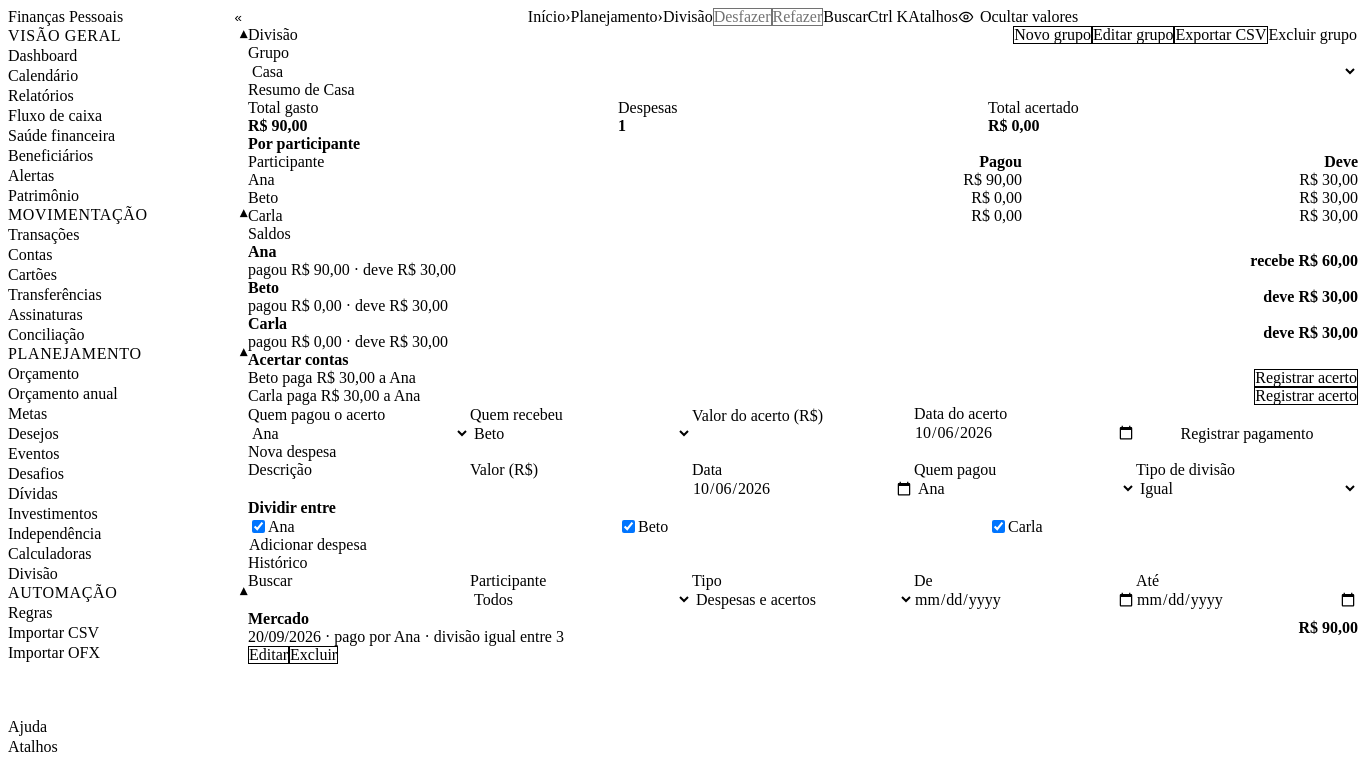
critério 10: acertos efetivados › o botão de uma sugestão registra o acerto, atualiza saldos e some da lista
The width and height of the screenshot is (1366, 759).
Click the button with aria-label "Registrar acerto: Beto paga R$ 30,00 a Ana" at (1306, 378), box [1254,369,1358,387]
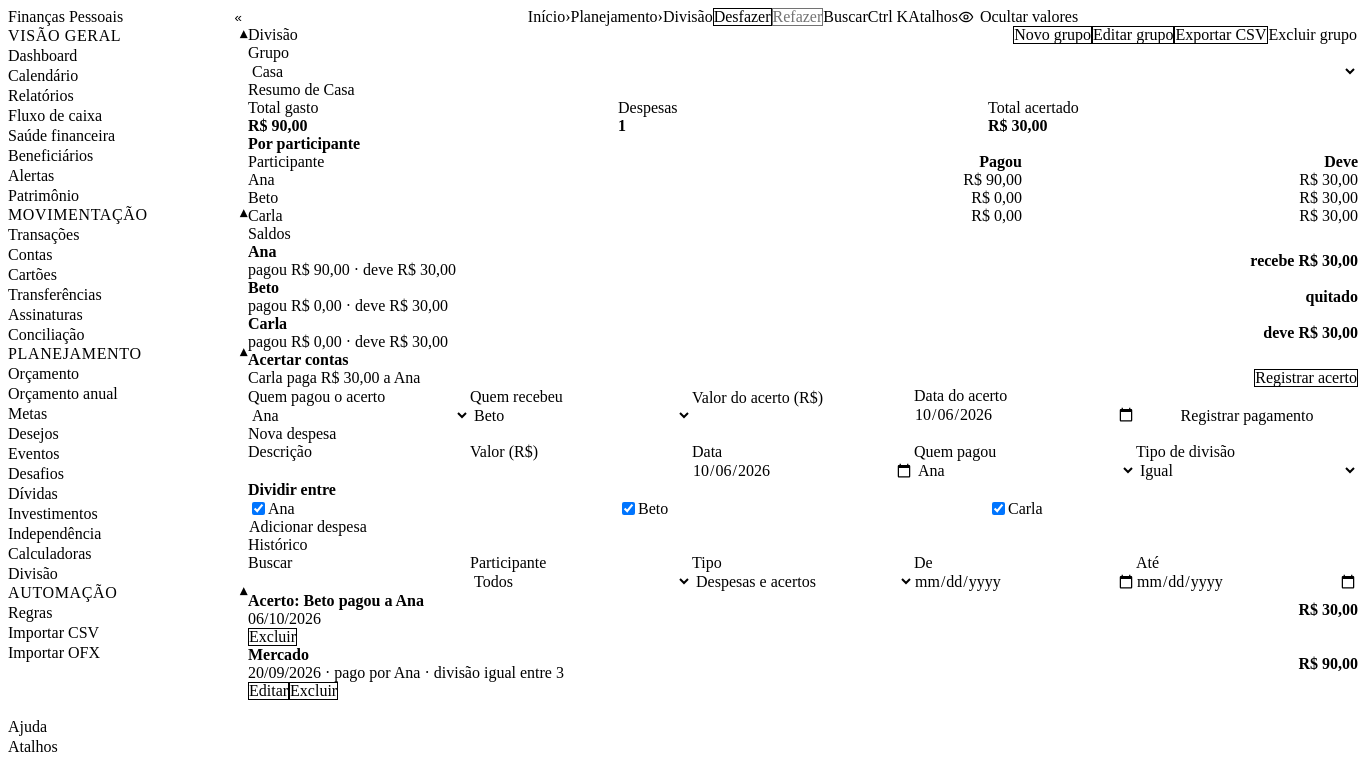
Check: the text "Carla paga R$ 30,00 a Ana" is shown, box [248,369,420,387]
Check: the text "Beto paga R$ 30,00 a Ana" is gone
